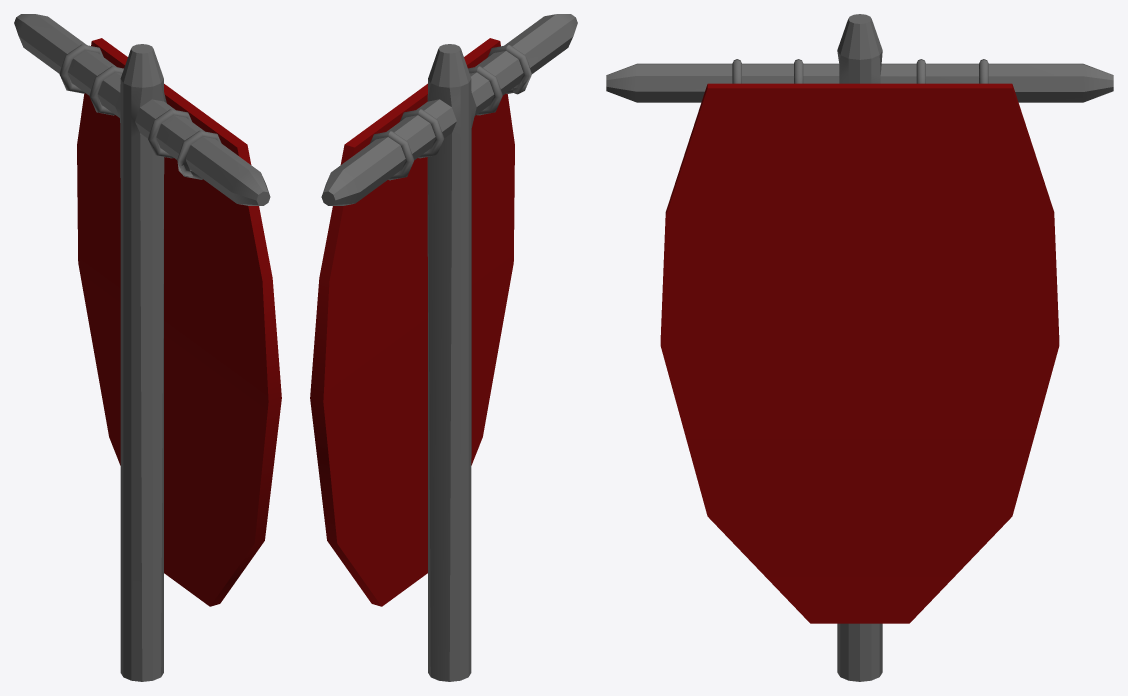
The model's file is NewBanner_round.fbx.
The picture shows the model from 3 angles, left to right: view 1: azimuth 30°, elevation 25°; view 2: azimuth 150°, elevation 25°; view 3: azimuth 270°, elevation 25°; orthographic projection. The views are drawn at different scales.
Parts seen in each view (by area): view 1: pCube1, pCylinder1, polySurface5, polySurface4, polySurface2, polySurface3; view 2: pCube1, pCylinder1, polySurface5, polySurface2, polySurface3, polySurface4; view 3: pCube1, pCylinder1.
Boxes of the visible parts, bbox=[...] form: pCube1: bbox=[77, 38, 281, 606]; pCylinder1: bbox=[14, 14, 270, 681]; polySurface5: bbox=[177, 130, 221, 179]; polySurface4: bbox=[148, 109, 191, 158]; polySurface2: bbox=[59, 44, 103, 93]; polySurface3: bbox=[89, 66, 123, 115]; pCube1: bbox=[310, 38, 514, 606]; pCylinder1: bbox=[321, 14, 577, 681]; polySurface5: bbox=[487, 45, 531, 94]; polySurface2: bbox=[370, 131, 414, 180]; polySurface3: bbox=[400, 109, 444, 158]; polySurface4: bbox=[468, 66, 502, 115]; pCube1: bbox=[660, 83, 1059, 623]; pCylinder1: bbox=[606, 14, 1113, 681].
Size of the model in its own units: 3.05 by 23.43 by 16.5.
